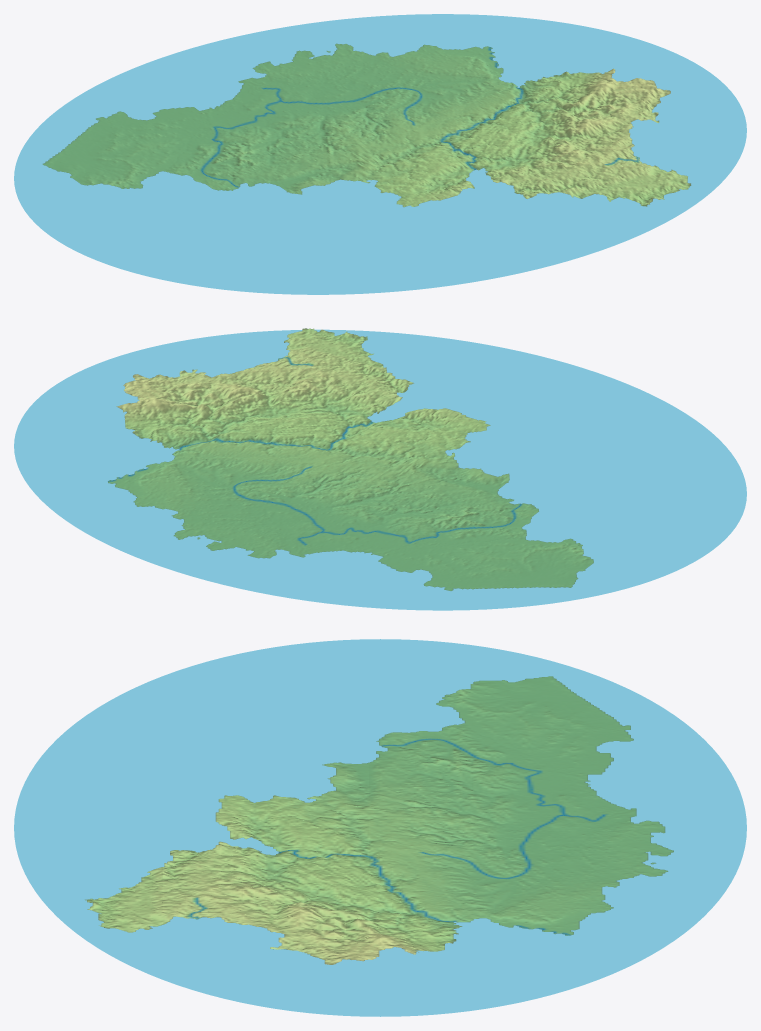
The model's file is BEL-terrain.glb.
The picture shows the model from 3 angles, top to bottom: view 1: azimuth 30°, elevation 25°; view 2: azimuth 150°, elevation 25°; view 3: azimuth 270°, elevation 25°; orthographic projection. The views are drawn at different scales.
Visible parts, largest first — view 1: Relevo com hidrografia; view 2: Relevo com hidrografia; view 3: Relevo com hidrografia.
Part boxes in pixels (<box>): Relevo com hidrografia: <box>14,14,746,294</box>; Relevo com hidrografia: <box>14,328,746,610</box>; Relevo com hidrografia: <box>14,639,746,1016</box>.
Bounding box in the file's own units: 2 × 0.0455 × 1.64.
Materials: 2 (1 with a texture image).
